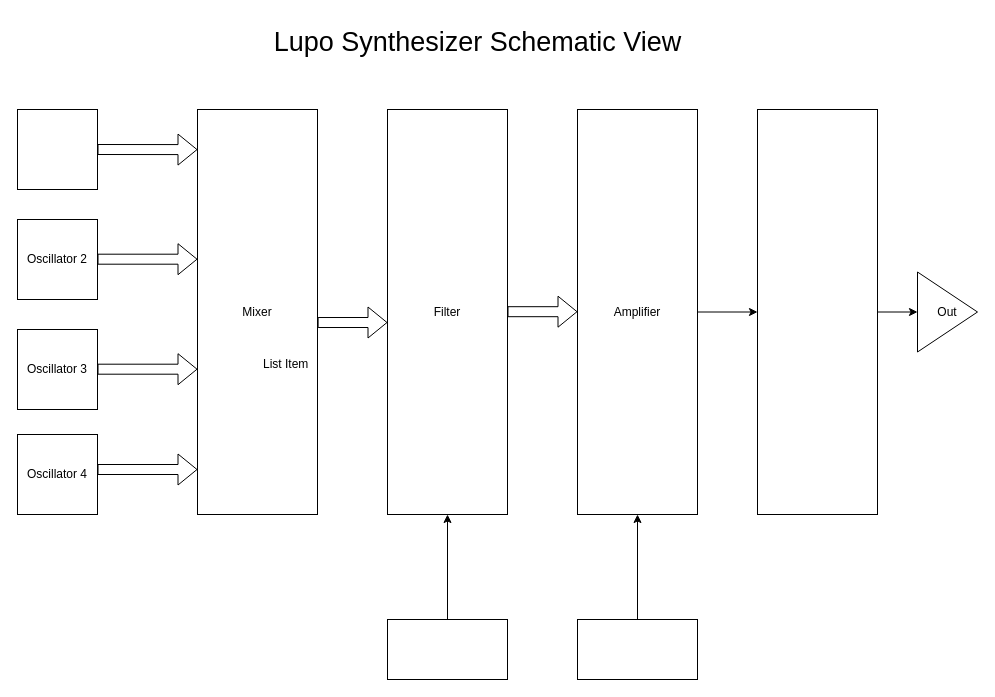
This 995x697 diagram has some shape labels left out. Here are the shapes that lost their labels. From the top down, the centre of each, then its label:
point (57, 149): Oscillator 1
point (817, 311): FX
point (447, 649): Filter Envelope
point (637, 649): Amp Envelope
